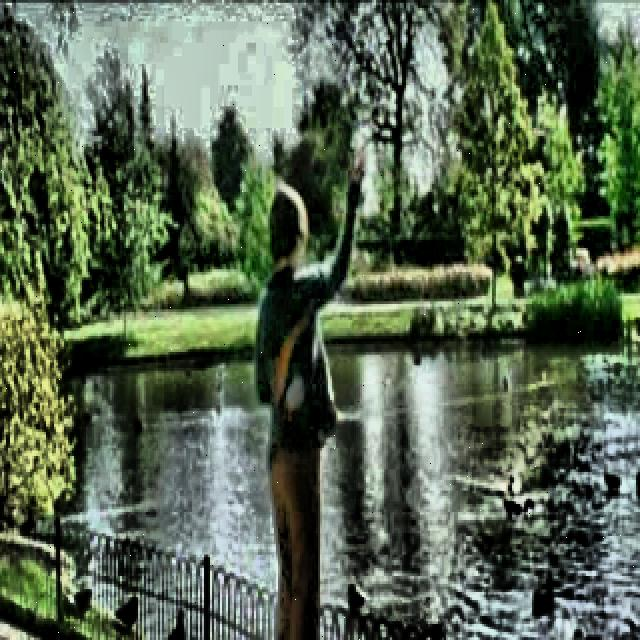T: (236, 139, 377, 640)
